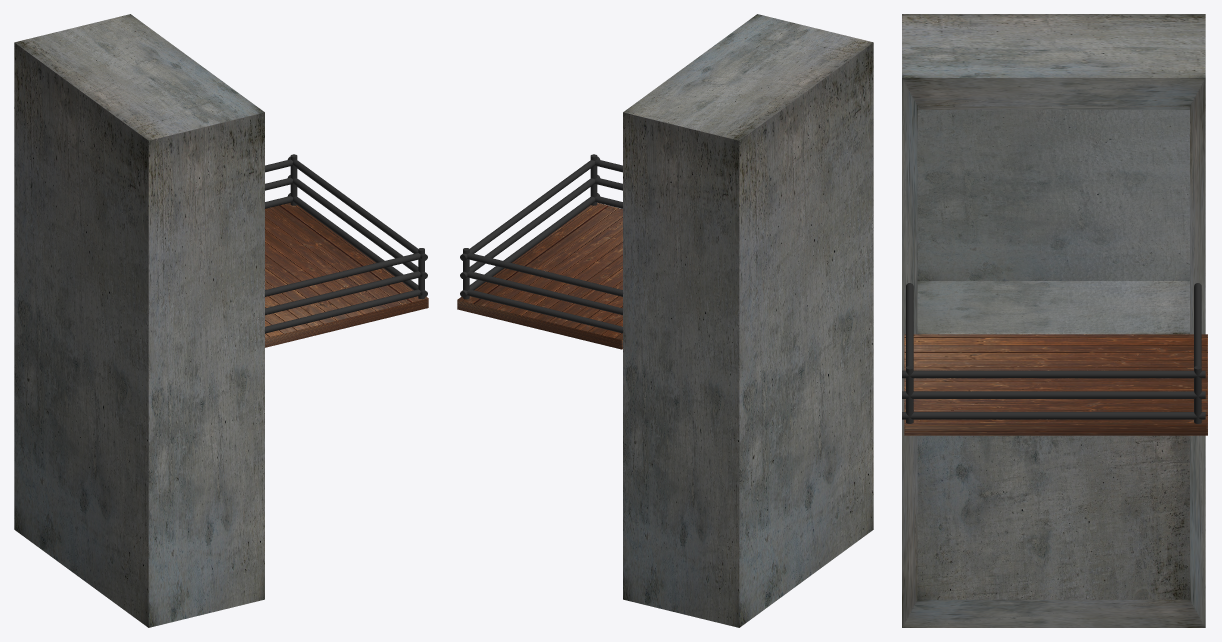
File: balkon.obj
3 renders of one model, left to right at view 1: azimuth 30°, elevation 25°; view 2: azimuth 150°, elevation 25°; view 3: azimuth 270°, elevation 25°, orthographic. The views are drawn at different scales.
Visible parts, largest first — view 1: Cube.002, Cube.001, Cylinder.008_Cylinder.010, Cylinder.006_Cylinder.008, Cylinder.007_Cylinder.009, Cylinder.002_Cylinder.005, Cylinder.005_Cylinder.007, Cylinder.004_Cylinder.006; view 2: Cube.002, Cube.001, Cylinder.011_Cylinder.014, Cylinder.002_Cylinder.005, Cylinder.009_Cylinder.012, Cylinder.010_Cylinder.013, Cylinder.005_Cylinder.007, Cylinder.004_Cylinder.006; view 3: Cube.002, Plane, Cube.001, Cylinder.002_Cylinder.005, Cylinder.004_Cylinder.006, Cylinder.005_Cylinder.007, Cylinder.009_Cylinder.012, Cylinder.006_Cylinder.008.
Part boxes in pixels (x1=…): Cube.002: x1=14, y1=14, x2=264, y2=627; Cube.001: x1=265, y1=203, x2=428, y2=347; Cylinder.008_Cylinder.010: x1=265, y1=289, x2=420, y2=333; Cylinder.006_Cylinder.008: x1=265, y1=253, x2=420, y2=296; Cylinder.007_Cylinder.009: x1=265, y1=271, x2=420, y2=315; Cylinder.002_Cylinder.005: x1=287, y1=156, x2=427, y2=260; Cylinder.005_Cylinder.007: x1=288, y1=175, x2=427, y2=279; Cylinder.004_Cylinder.006: x1=287, y1=193, x2=427, y2=297; Cube.002: x1=623, y1=14, x2=873, y2=627; Cube.001: x1=457, y1=203, x2=622, y2=349; Cylinder.011_Cylinder.014: x1=467, y1=289, x2=622, y2=333; Cylinder.002_Cylinder.005: x1=460, y1=156, x2=600, y2=260; Cylinder.009_Cylinder.012: x1=467, y1=253, x2=622, y2=296; Cylinder.010_Cylinder.013: x1=467, y1=271, x2=622, y2=315; Cylinder.005_Cylinder.007: x1=460, y1=175, x2=599, y2=279; Cylinder.004_Cylinder.006: x1=460, y1=193, x2=600, y2=297; Cube.002: x1=902, y1=14, x2=1205, y2=627; Plane: x1=918, y1=110, x2=1189, y2=332; Cube.001: x1=904, y1=334, x2=1207, y2=435; Cylinder.002_Cylinder.005: x1=902, y1=370, x2=1205, y2=378; Cylinder.004_Cylinder.006: x1=902, y1=412, x2=1205, y2=419; Cylinder.005_Cylinder.007: x1=902, y1=391, x2=1205, y2=398; Cylinder.009_Cylinder.012: x1=1194, y1=283, x2=1201, y2=367; Cylinder.006_Cylinder.008: x1=906, y1=283, x2=913, y2=366.
Size of the model in its own units: 4.83 by 8 by 4.03.
Materials: 5 (3 with a texture image).
